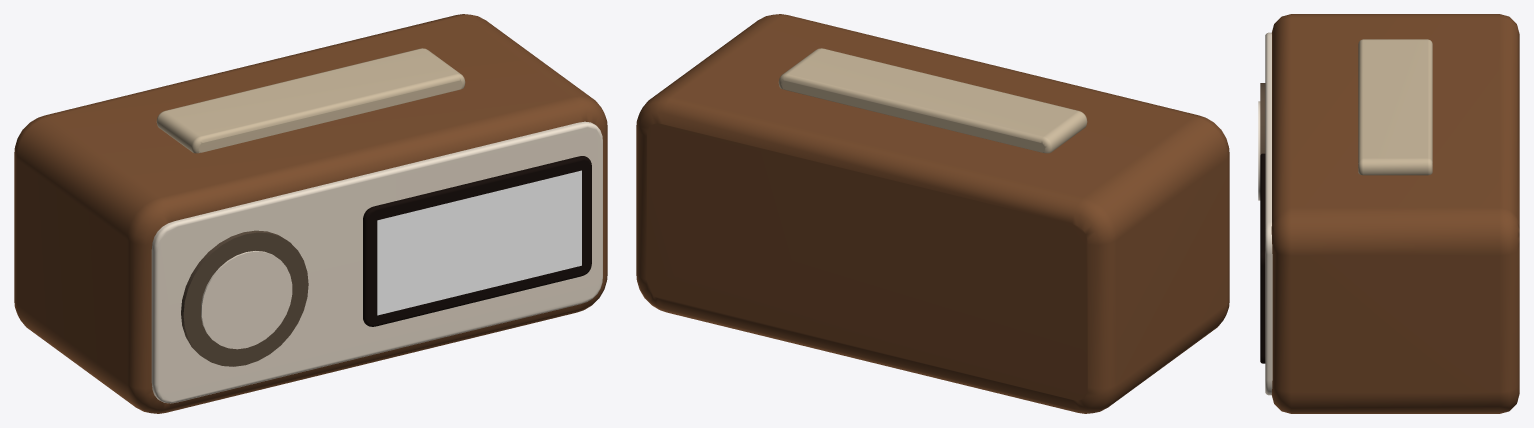
The model's file is clockradio.glb.
3 renders of one model, left to right at view 1: azimuth 30°, elevation 25°; view 2: azimuth 150°, elevation 25°; view 3: azimuth 270°, elevation 25°, orthographic. The views are drawn at different scales.
Parts seen in each view (by area): view 1: Wood, Shell, Screen, Bar, Bezel, Grille; view 2: Wood, Bar; view 3: Wood, Bar, Shell, Bezel, Grille.
Boxes of the visible parts, <box> form: Wood: <box>14,14,607,413</box>; Shell: <box>151,121,602,403</box>; Screen: <box>377,170,581,315</box>; Bar: <box>156,48,465,153</box>; Bezel: <box>363,156,591,326</box>; Grille: <box>181,230,308,366</box>; Wood: <box>636,14,1229,413</box>; Bar: <box>778,48,1087,153</box>; Wood: <box>1271,14,1519,413</box>; Bar: <box>1358,39,1432,175</box>; Shell: <box>1258,32,1272,395</box>; Bezel: <box>1260,153,1265,363</box>; Grille: <box>1260,83,1265,154</box>.
Bounding box in the file's own units: 0.42 × 0.192 × 0.2105.
